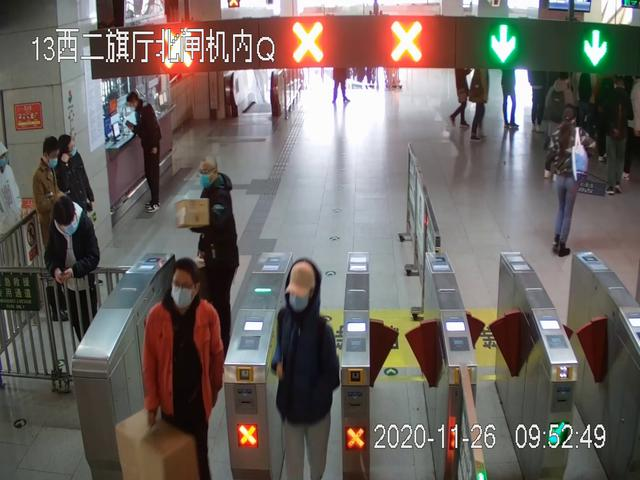person: (143, 257, 224, 480), (271, 257, 341, 480), (46, 196, 100, 377), (190, 154, 239, 351), (544, 105, 597, 257), (32, 137, 74, 319), (126, 90, 162, 213), (544, 73, 575, 179), (468, 66, 490, 143), (499, 68, 521, 130), (450, 65, 470, 128)
